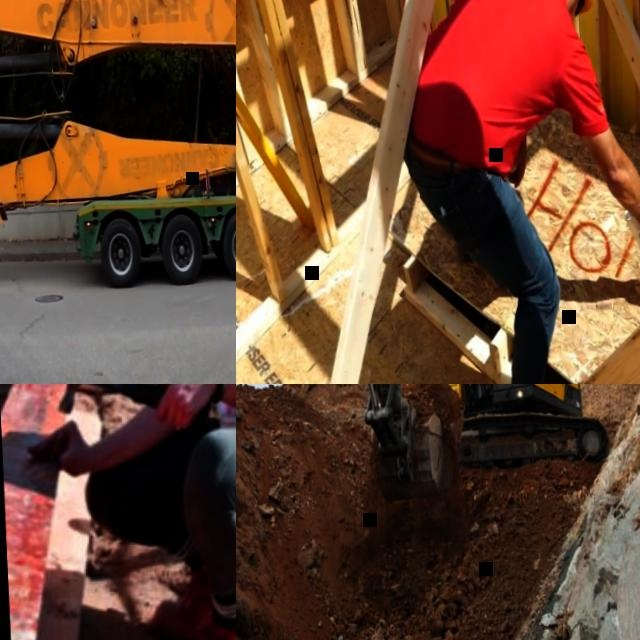NO-Safety Vest: (402, 0, 579, 176)
Person: (388, 0, 640, 384), (20, 384, 236, 640)
machinery: (0, 0, 236, 237), (305, 384, 615, 505)
